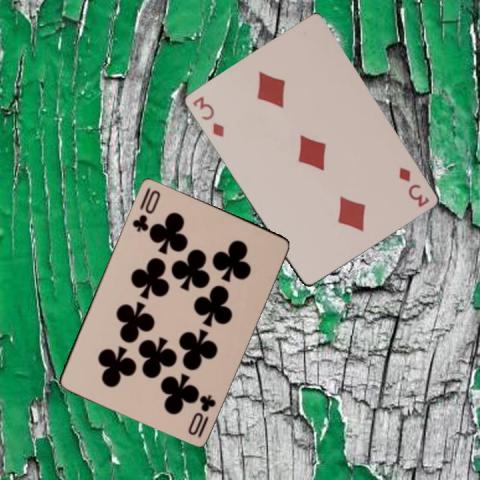10c: (129, 184, 162, 234), (185, 390, 217, 438)
3d: (190, 92, 226, 138), (395, 164, 430, 209)
